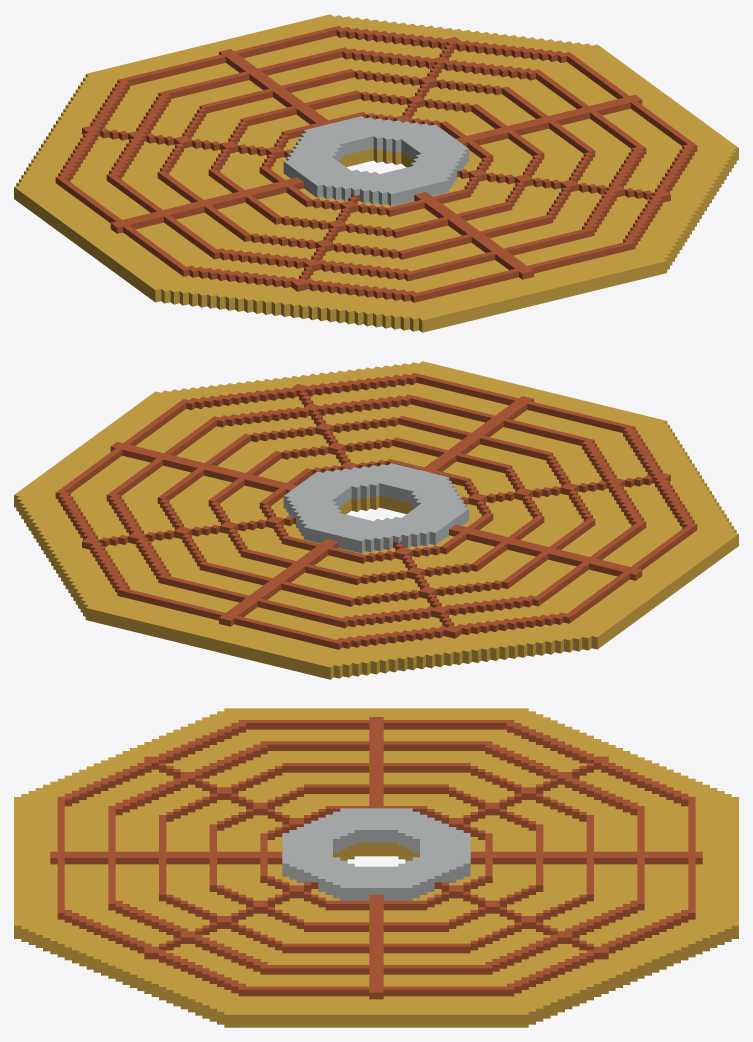
The model's file is melchior_platter.glb.
The picture shows the model from 3 angles, top to bottom: view 1: azimuth 30°, elevation 25°; view 2: azimuth 150°, elevation 25°; view 3: azimuth 270°, elevation 25°; orthographic projection. The views are drawn at different scales.
Parts seen in each view (by area): view 1: melchior_platter:compound; view 2: melchior_platter:compound; view 3: melchior_platter:compound.
Boxes of the visible parts, x1,y1,x2,y2 form: melchior_platter:compound: [14, 14, 738, 332]; melchior_platter:compound: [14, 361, 738, 679]; melchior_platter:compound: [14, 708, 738, 1027].
Size of the model in its own units: 0.4 by 0.016 by 0.4.
